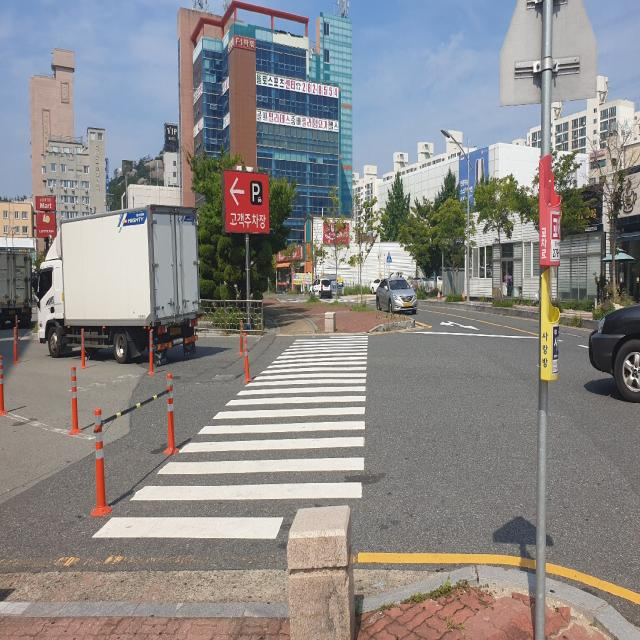횡단보도: (92, 334, 368, 540)
